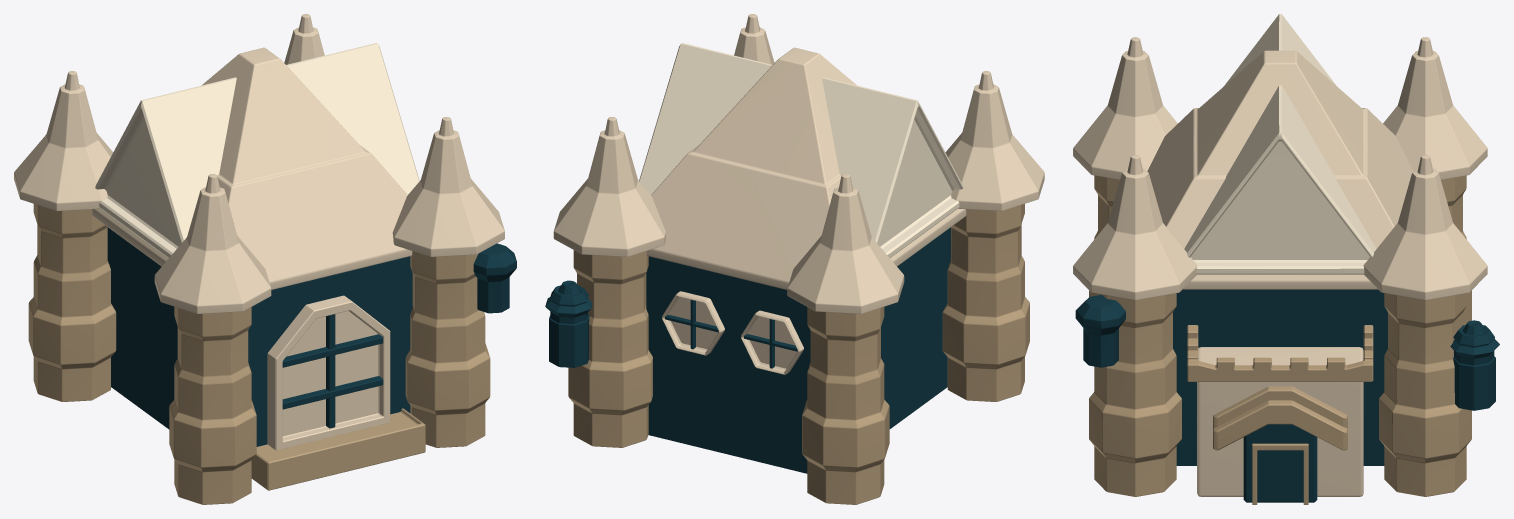
The model's file is Building.fbx.
3 renders of one model, left to right at view 1: azimuth 30°, elevation 25°; view 2: azimuth 150°, elevation 25°; view 3: azimuth 270°, elevation 25°, orthographic. The views are drawn at different scales.
Visible parts, largest first — view 1: Pillar (×3), Roof, Spire (×4), Bulilding, RoofTran2, pCube1, RoofTran, pCube2, SmallPillar, pCube8, pCube3, pCube9; view 2: Pillar (×3), Bulilding, Roof, Spire (×4), RoofTran2, RoofTran, pCylinder1 (×2), SmallPillar2; view 3: Spire (×4), Pillar (×4), Roof, RoofTran, Bulilding, Bulilding2, Bulilding3, Brick, SmallPillar2, DoorTop2, SmallPillar, DoorTop (+2 smaller).
Boxes of the visible parts, <box> form: Pillar (×3): <box>28,204,490,504</box>; Roof: <box>92,47,412,289</box>; Spire (×4): <box>14,14,504,313</box>; Bulilding: <box>107,227,412,446</box>; RoofTran2: <box>95,77,236,257</box>; pCube1: <box>267,295,390,450</box>; RoofTran: <box>286,43,419,194</box>; pCube2: <box>251,408,425,490</box>; SmallPillar: <box>473,243,516,313</box>; pCube8: <box>282,376,383,409</box>; pCube3: <box>282,334,383,367</box>; pCube9: <box>326,314,335,428</box>; Pillar (×3): <box>568,204,1029,504</box>; Bulilding: <box>646,227,950,473</box>; Roof: <box>646,47,966,289</box>; Spire (×4): <box>553,14,1044,313</box>; RoofTran2: <box>822,77,963,257</box>; RoofTran: <box>639,43,772,194</box>; pCylinder1 (×2): <box>662,291,803,374</box>; SmallPillar2: <box>545,280,592,367</box>; Spire (×4): <box>1073,37,1487,300</box>; Pillar (×4): <box>1089,175,1471,496</box>; Roof: <box>1147,50,1413,289</box>; RoofTran: <box>1184,85,1376,274</box>; Bulilding: <box>1173,289,1387,465</box>; Bulilding2: <box>1197,347,1363,496</box>; Bulilding3: <box>1243,424,1317,502</box>; Brick: <box>1187,325,1373,381</box>; SmallPillar2: <box>1450,320,1499,410</box>; DoorTop2: <box>1213,400,1347,450</box>; SmallPillar: <box>1075,295,1125,367</box>; DoorTop: <box>1213,386,1347,428</box>.
Bounding box in the file's own units: 9.74 × 9.73 × 10.31.
Materials: 1 (1 with a texture image).
